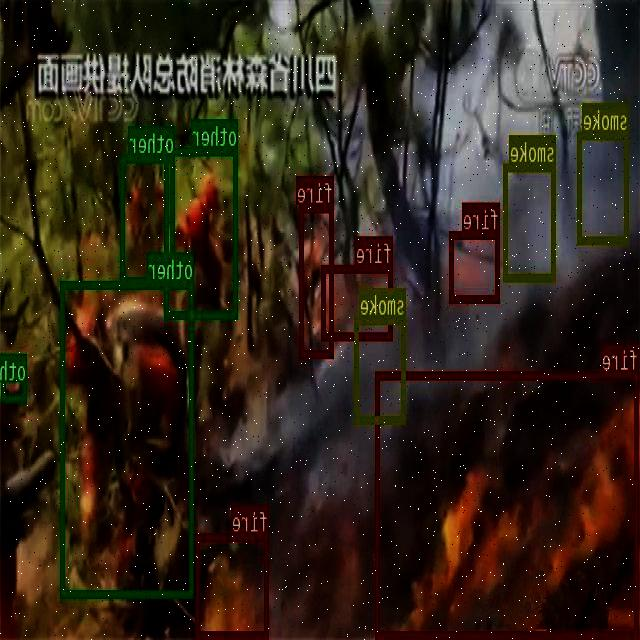fire: (377, 370, 639, 636), (197, 532, 270, 636), (322, 264, 393, 338), (300, 203, 334, 357), (450, 230, 500, 300)
smoke: (505, 162, 557, 280), (578, 131, 630, 243), (356, 316, 406, 423)
